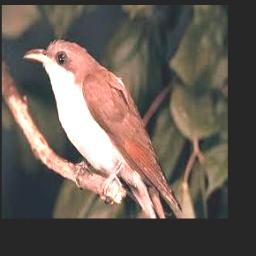Cuckoo: (23, 39, 183, 212)
